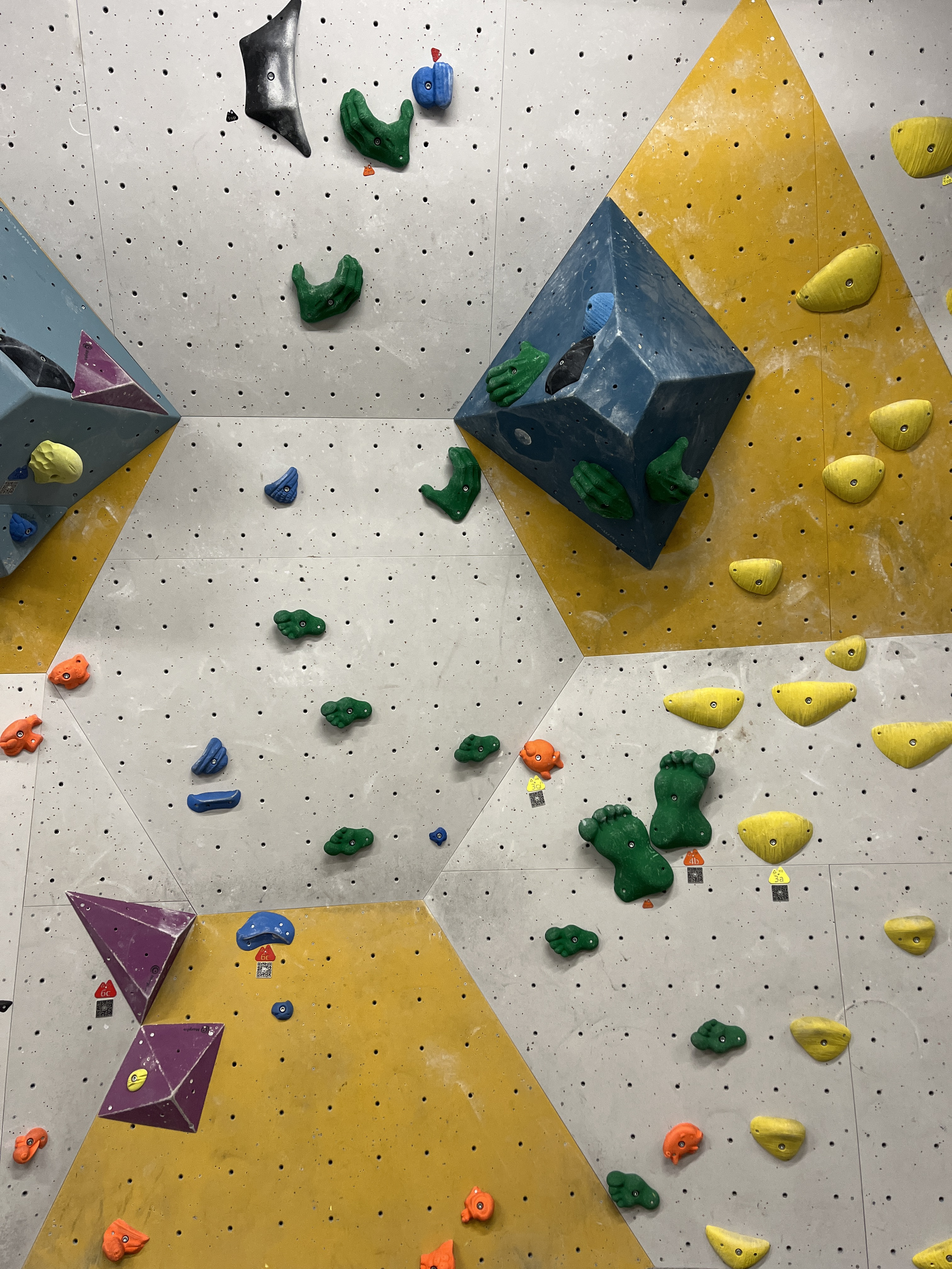hold: (242, 2, 307, 156), (581, 807, 672, 902), (650, 750, 715, 850), (796, 244, 881, 313), (341, 89, 411, 168), (292, 257, 361, 323), (0, 333, 74, 393), (420, 447, 480, 521), (486, 341, 549, 406), (740, 811, 811, 862), (571, 461, 633, 519), (873, 721, 950, 767), (774, 682, 855, 724), (646, 437, 698, 502), (892, 119, 950, 176), (870, 399, 932, 450), (664, 688, 741, 727), (823, 455, 884, 502), (545, 336, 594, 394), (791, 1017, 847, 1060), (708, 1227, 768, 1266), (29, 440, 82, 483), (751, 1118, 805, 1155), (238, 912, 293, 948), (884, 916, 934, 954), (607, 1171, 656, 1209), (103, 1219, 146, 1259), (692, 1019, 743, 1052), (412, 63, 450, 107), (545, 926, 599, 956), (732, 559, 781, 592), (664, 1124, 702, 1162), (275, 610, 323, 640), (323, 697, 371, 727), (2, 716, 37, 755), (49, 654, 89, 688), (827, 636, 866, 670), (192, 739, 228, 775), (584, 293, 614, 336), (325, 827, 371, 854), (521, 739, 559, 771), (265, 467, 297, 504), (188, 789, 240, 811), (14, 1128, 45, 1162), (456, 735, 498, 759), (914, 1239, 950, 1266), (420, 1241, 454, 1266), (9, 513, 37, 543), (464, 1187, 490, 1219), (127, 1068, 148, 1091), (769, 868, 789, 886), (274, 1001, 292, 1019), (430, 827, 446, 844), (0, 999, 12, 1013)
volume: (451, 196, 758, 573), (0, 199, 183, 579), (67, 892, 195, 1023), (99, 1023, 224, 1132), (72, 331, 167, 414)
